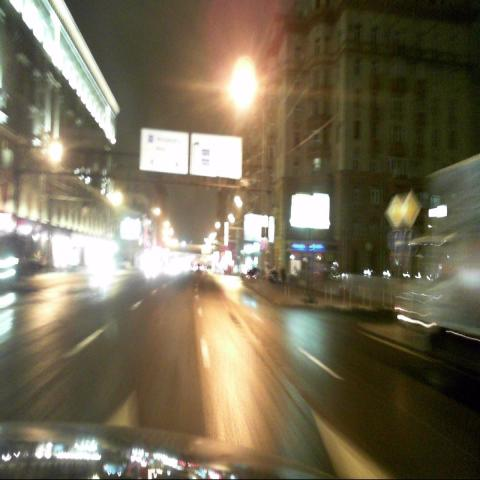2_1: (402, 191, 420, 228)
4_1_1: (403, 230, 419, 258)
